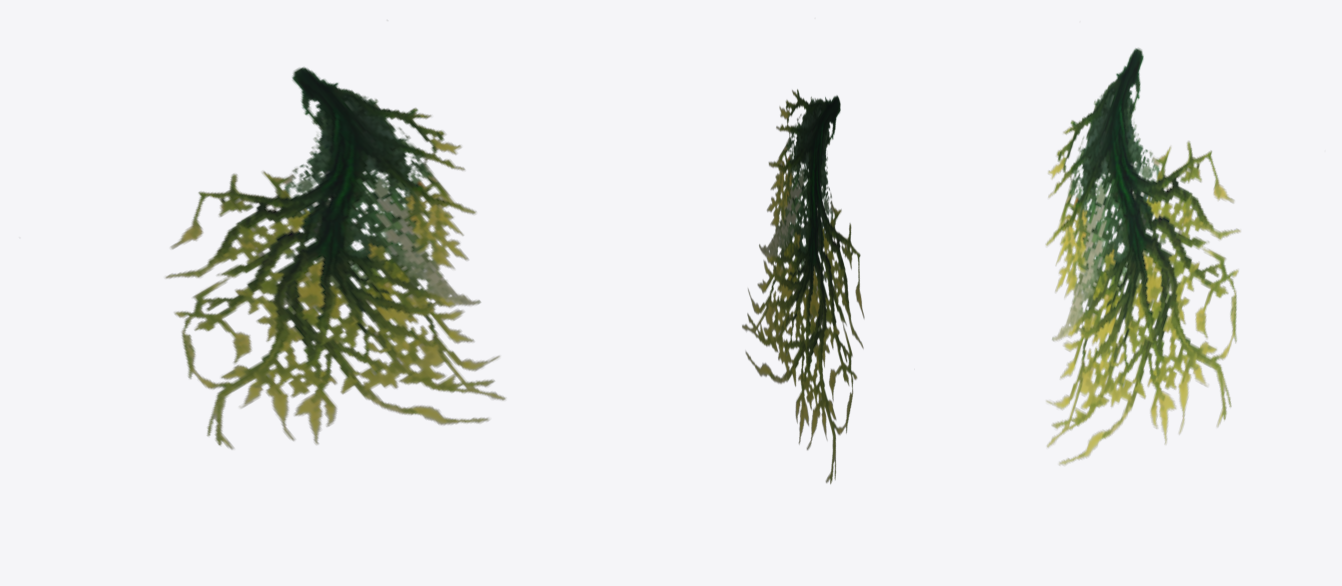
Rendered from algae_h_6.gltf.
The picture shows the model from 3 angles, left to right: view 1: azimuth 30°, elevation 25°; view 2: azimuth 150°, elevation 25°; view 3: azimuth 270°, elevation 25°; orthographic projection. The views are drawn at different scales.
Visible parts, largest first — view 1: algae_h_6; view 2: algae_h_6; view 3: algae_h_6.
Part boxes in pixels (bbox=[...]): algae_h_6: bbox=[165, 20, 505, 449]; algae_h_6: bbox=[742, 89, 864, 484]; algae_h_6: bbox=[1045, 48, 1240, 465].
Size of the model in its own units: 3.92 by 4.89 by 2.97.
1 material, 1 textured.
